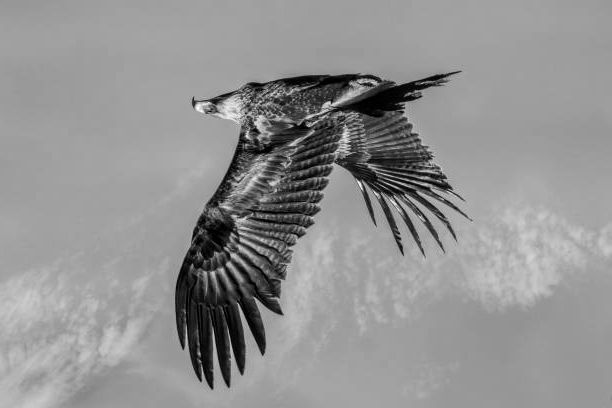Bird: (171, 60, 475, 395)
